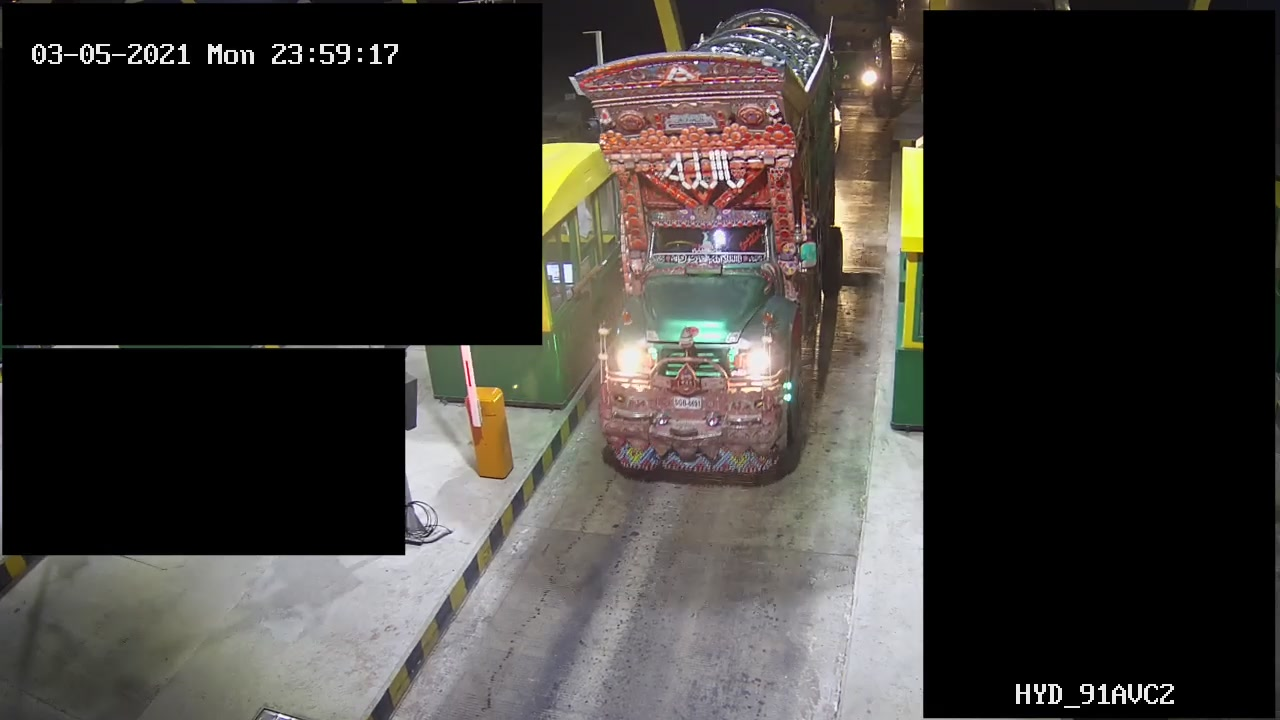F5: (573, 10, 842, 512)
